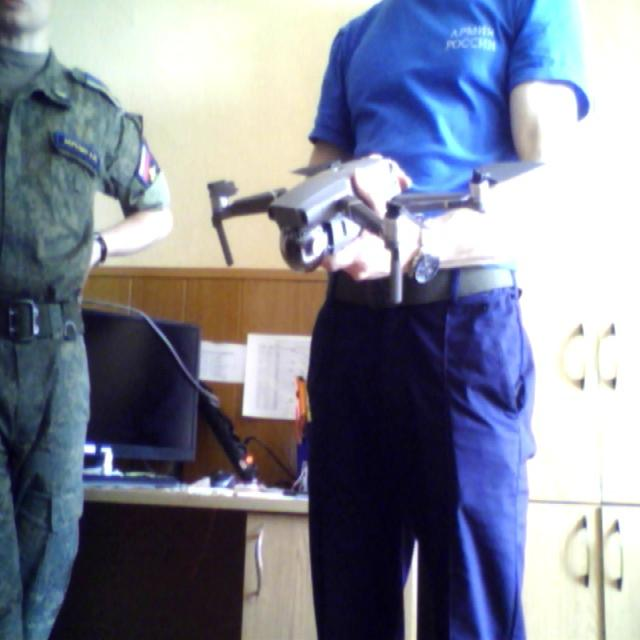drone: (180, 128, 513, 296)
